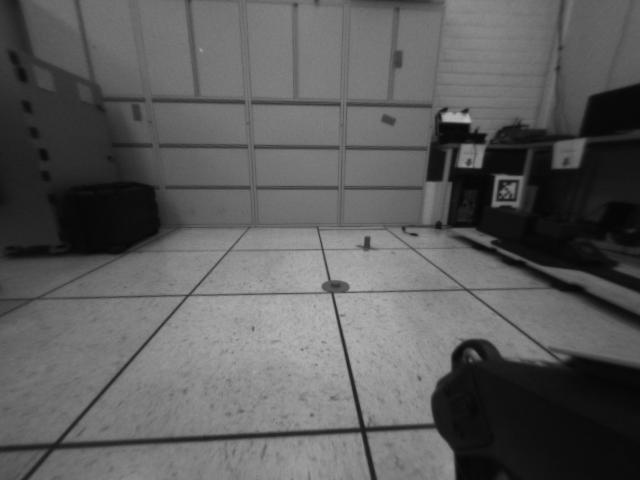X: (356, 234, 378, 252)
